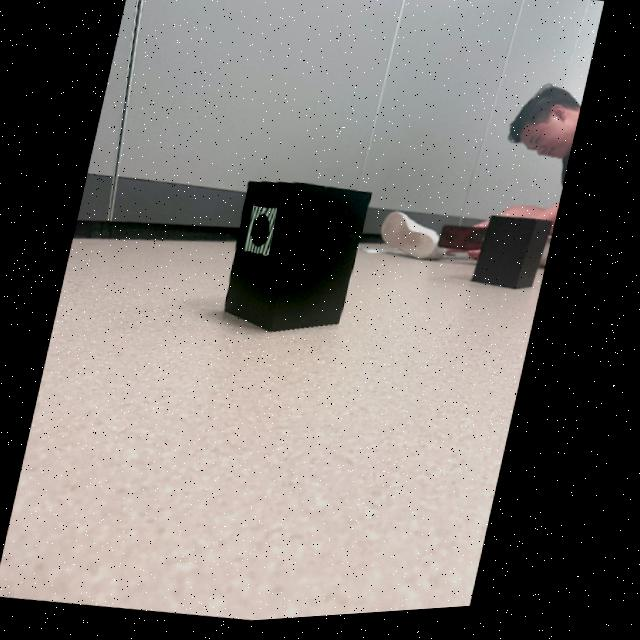CIRCLE: (255, 218, 273, 251)
